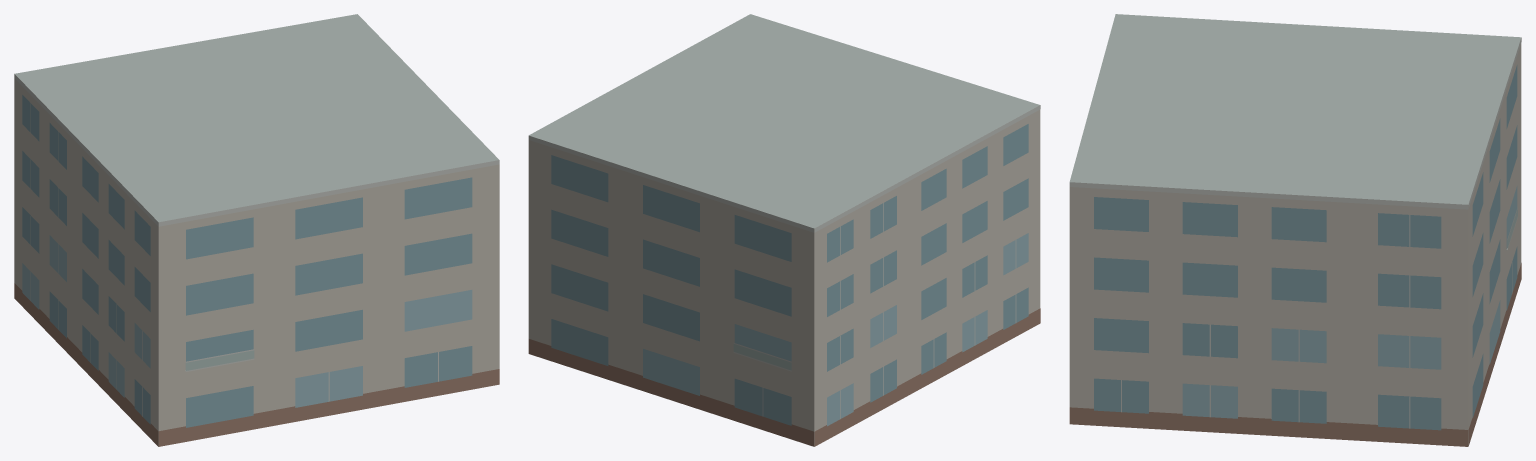
The model's file is survey-upis-32662472.glb.
The picture shows the model from 3 angles, left to right: view 1: azimuth 30°, elevation 25°; view 2: azimuth 150°, elevation 25°; view 3: azimuth 270°, elevation 25°; orthographic projection. The views are drawn at different scales.
Visible parts, largest first — view 1: survey-upis-32662472.tmp; view 2: survey-upis-32662472.tmp; view 3: survey-upis-32662472.tmp.
Boxes of the visible parts, <box> form: survey-upis-32662472.tmp: <box>14,14,499,446</box>; survey-upis-32662472.tmp: <box>528,14,1040,446</box>; survey-upis-32662472.tmp: <box>1069,14,1521,446</box>.
Size of the model in its own units: 20.8 by 12.3 by 20.82.
